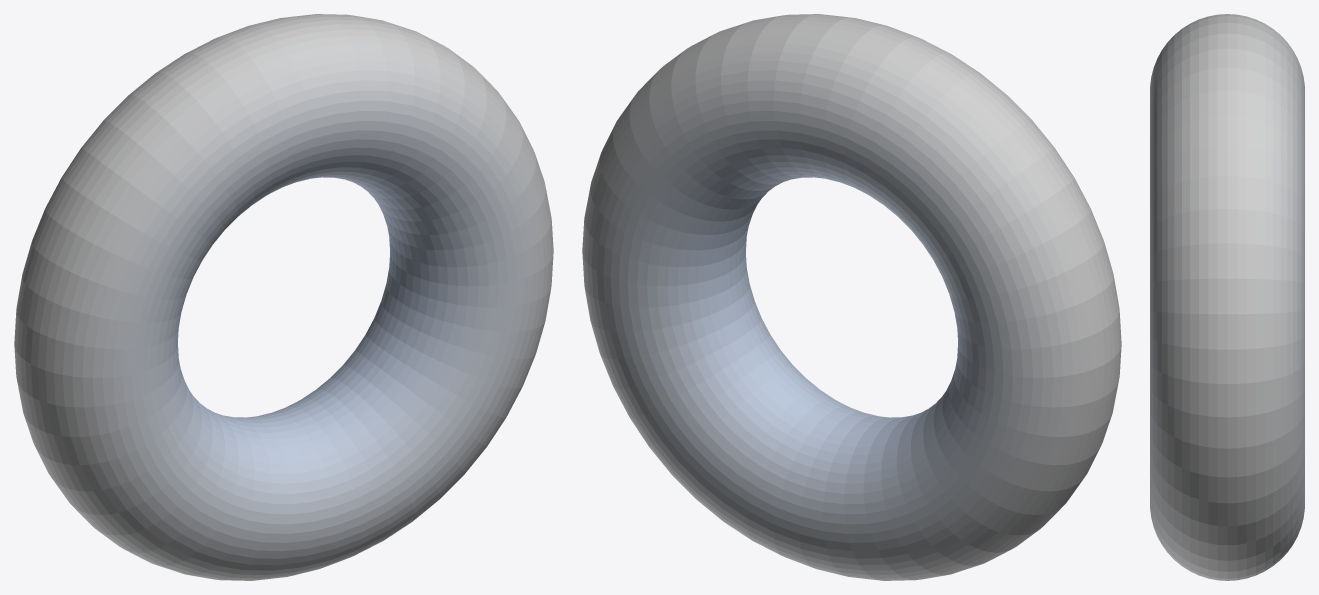
3 renders of one model, left to right at view 1: azimuth 30°, elevation 25°; view 2: azimuth 150°, elevation 25°; view 3: azimuth 270°, elevation 25°, orthographic. The views are drawn at different scales.
Visible parts, largest first — view 1: world; view 2: world; view 3: world.
Boxes of the visible parts, x1,y1,x2,y2 form: world: [14, 14, 553, 580]; world: [582, 14, 1121, 580]; world: [1150, 14, 1304, 580].
Size of the model in its own units: 23.87 by 23.82 by 6.52.
